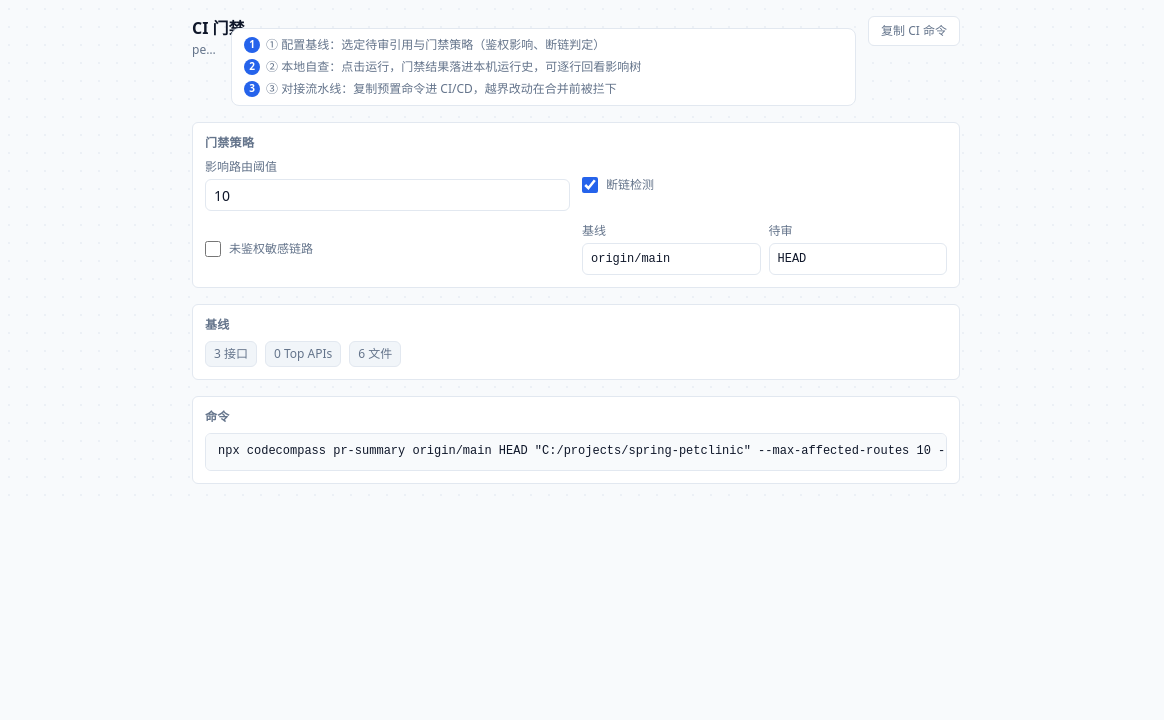
CiGateView (Issue 31) › renders policy controls, baseline stats and a generated command
Expected: the element with test id "ci-baseline" shows "3 接口", left=214, top=345, right=248, bottom=362
Expected: the text with test id "ci-command" shows "npx codecompass pr-summary origin/main HEAD \"C:/projects/spring-petclinic\" --max-affected-routes 10 --fail-on-break", left=218, top=444, right=1046, bottom=458
Click the checkbox with test id "ci-fail-on-auth-impact": coordinates (213, 249) left=205, top=241, right=221, bottom=257
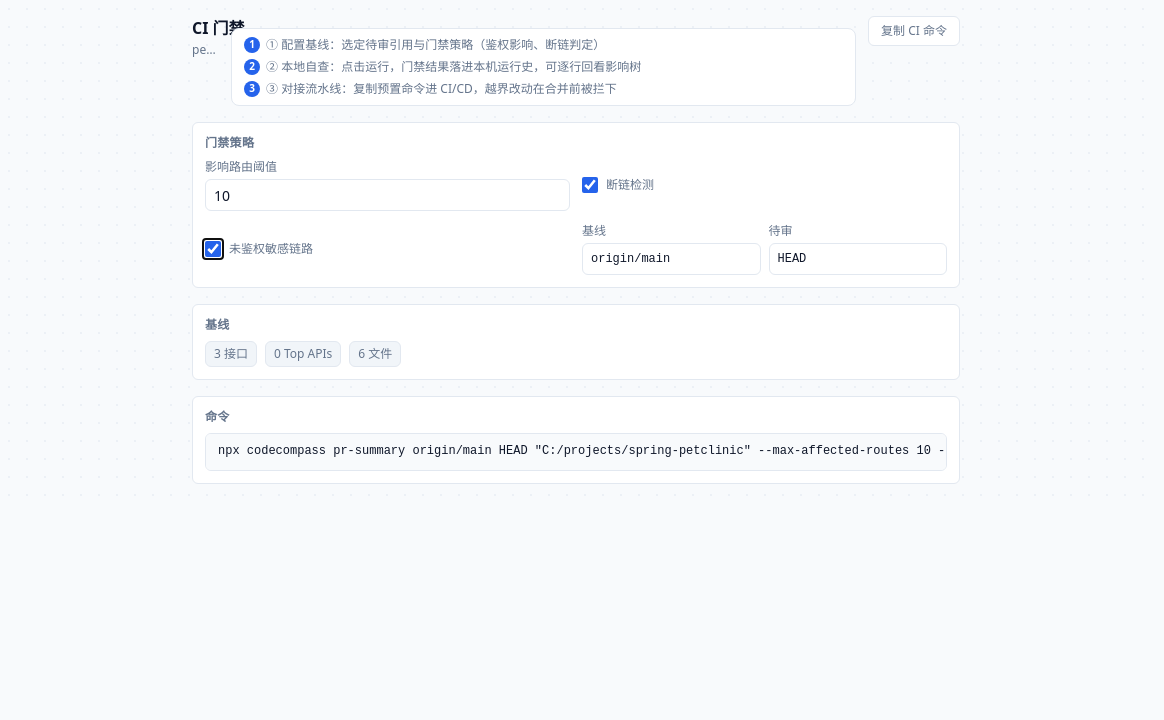
Replace the text in the number field with test id "ci-max-routes" with "5": coordinates (388, 195) left=205, top=179, right=570, bottom=211
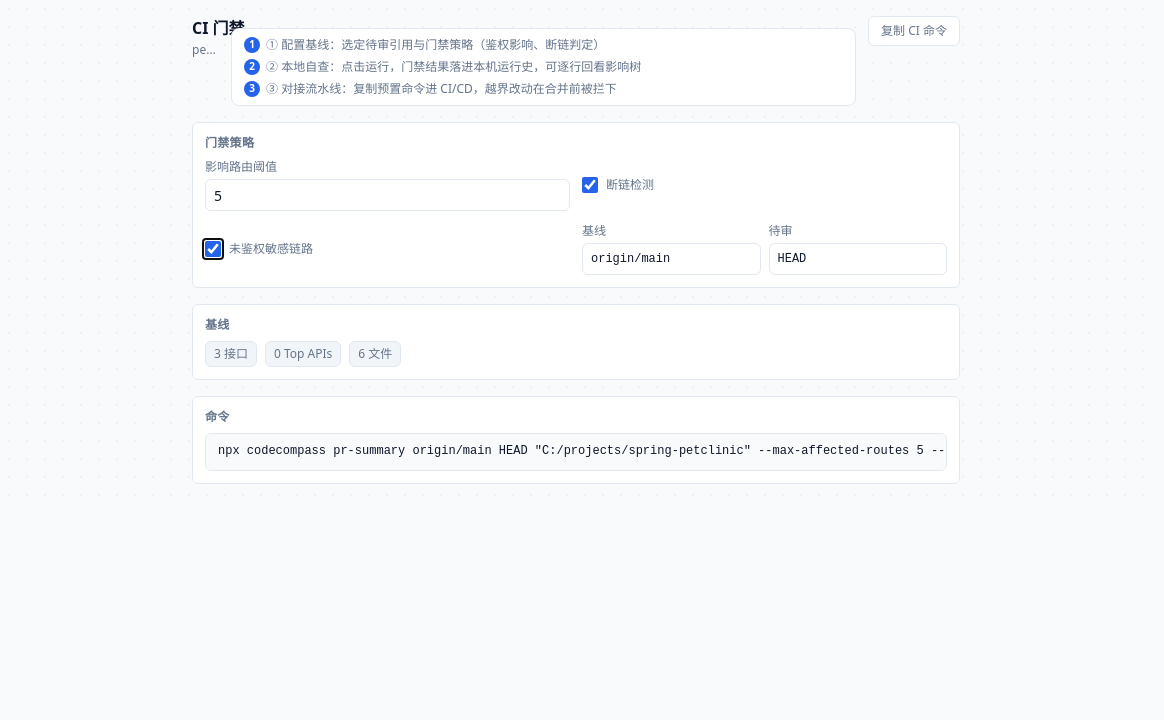
Now the text with test id "ci-command" shows "--fail-on-auth-impact", box left=218, top=444, right=1152, bottom=458
Now the text with test id "ci-command" shows "--max-affected-routes 5", box left=218, top=444, right=1152, bottom=458
